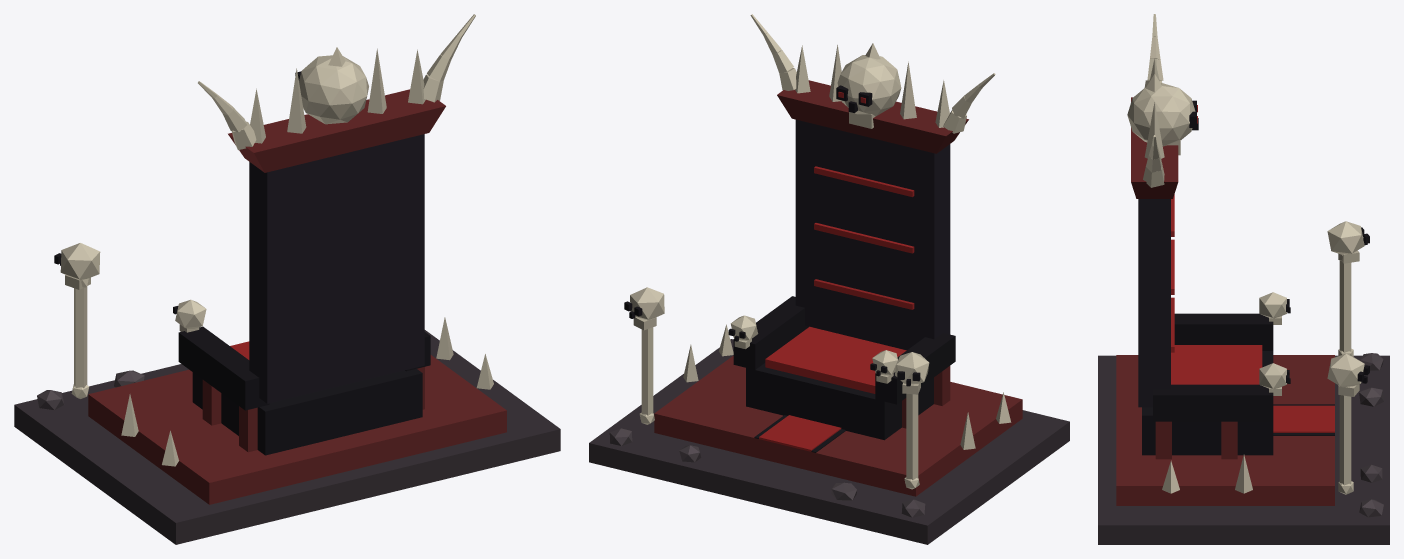
File: Decor_HellGate_DemonThrone.fbx
The picture shows the model from 3 angles, left to right: view 1: azimuth 30°, elevation 25°; view 2: azimuth 150°, elevation 25°; view 3: azimuth 270°, elevation 25°; orthographic projection. The views are drawn at different scales.
Parts seen in each view (by area): view 1: DemonThrone_Body; view 2: DemonThrone_Body; view 3: DemonThrone_Body.
Boxes of the visible parts, x1,y1,x2,y2 form: DemonThrone_Body: [14, 14, 560, 544]; DemonThrone_Body: [589, 14, 1069, 544]; DemonThrone_Body: [1098, 14, 1389, 544].
Size of the model in its own units: 22 by 23.4 by 16.
